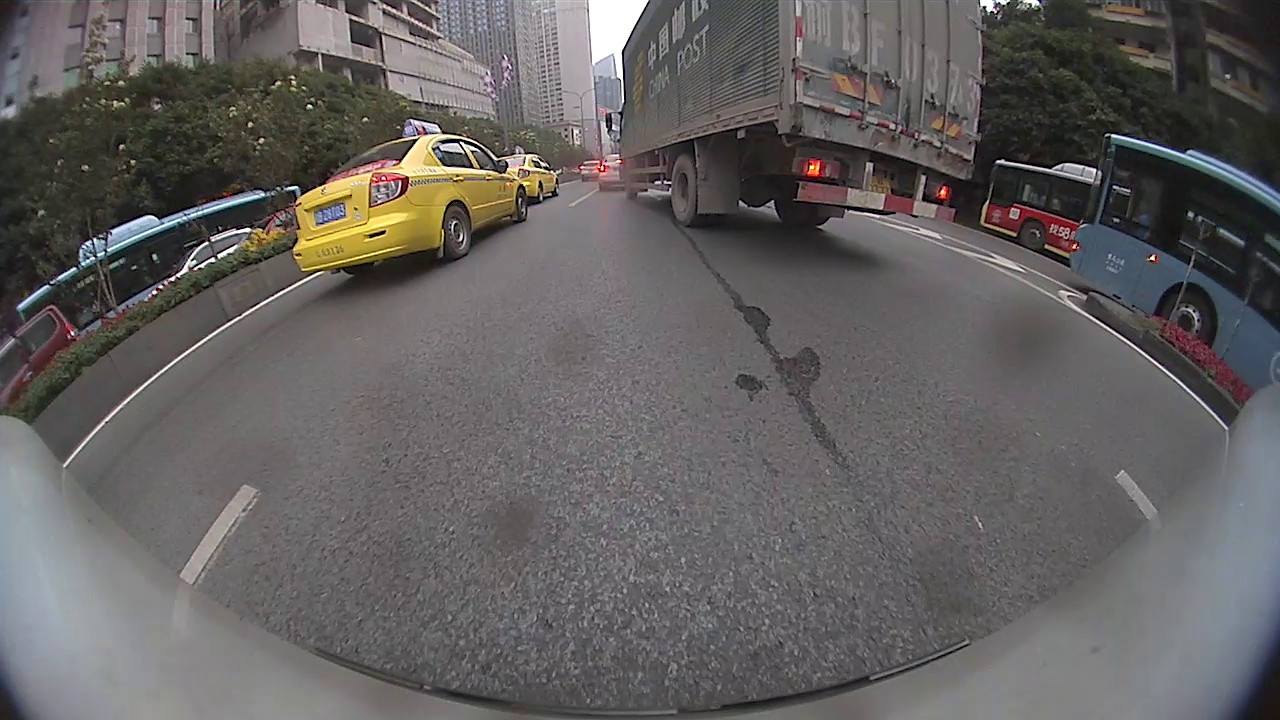bus: (1066, 132, 1279, 392), (14, 184, 303, 331), (982, 162, 1104, 260)
car: (291, 119, 530, 277), (1, 306, 77, 404), (159, 226, 264, 292), (496, 148, 562, 203), (597, 153, 627, 194), (579, 158, 604, 183)
front: (1154, 283, 1217, 353), (1017, 220, 1047, 251), (514, 187, 529, 222)
rear: (671, 153, 712, 228), (441, 206, 470, 262)
truck: (621, 1, 982, 230)
